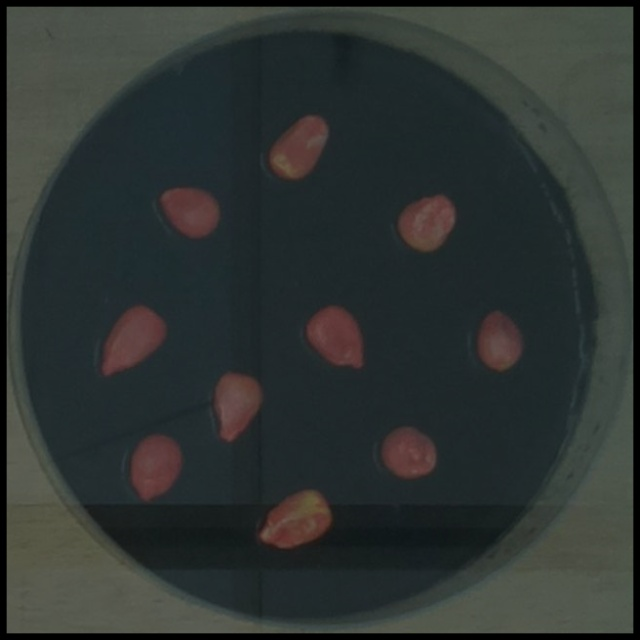Zea mays: (92, 298, 173, 383), (252, 481, 338, 556), (260, 107, 335, 186), (299, 299, 371, 377), (206, 365, 272, 449), (124, 426, 190, 509), (390, 186, 463, 260), (151, 178, 225, 244), (374, 418, 444, 485), (471, 301, 529, 377)
